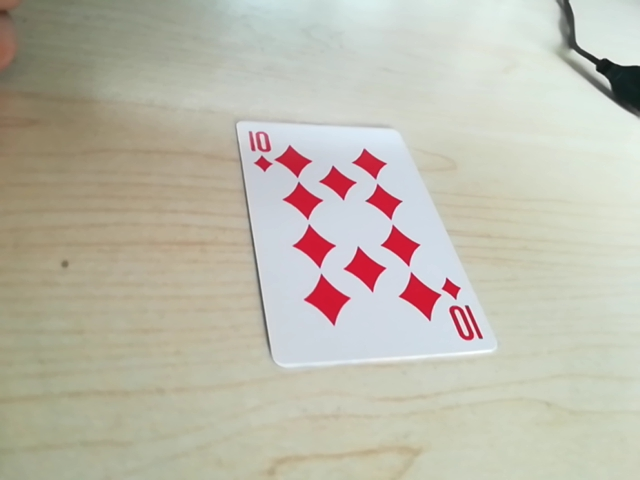fk 10: (446, 285, 485, 350), (240, 124, 282, 176)
